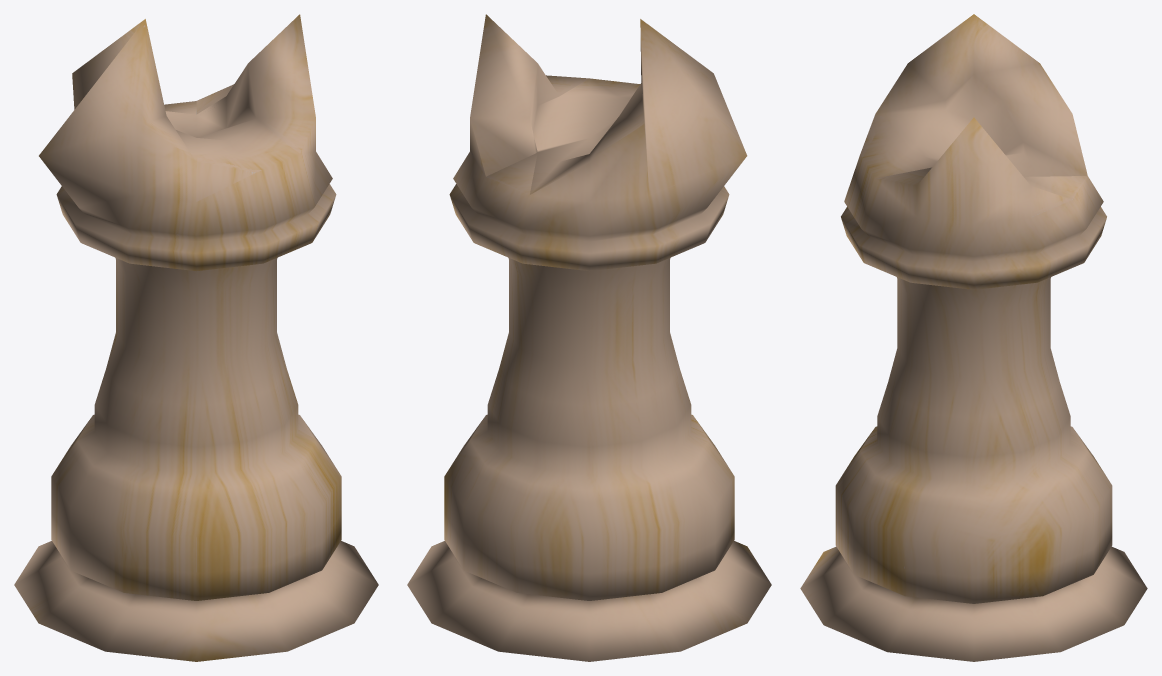
Rendered from White Bishop.fbx.
The picture shows the model from 3 angles, left to right: view 1: azimuth 30°, elevation 25°; view 2: azimuth 150°, elevation 25°; view 3: azimuth 270°, elevation 25°; orthographic projection. The views are drawn at different scales.
Visible parts, largest first — view 1: White_Bishop:Bishop_Piece:cylinder1; view 2: White_Bishop:Bishop_Piece:cylinder1; view 3: White_Bishop:Bishop_Piece:cylinder1.
Boxes of the visible parts, x1,y1,x2,y2 form: White_Bishop:Bishop_Piece:cylinder1: [14, 14, 378, 661]; White_Bishop:Bishop_Piece:cylinder1: [407, 14, 771, 661]; White_Bishop:Bishop_Piece:cylinder1: [800, 14, 1147, 661].
Bounding box in the file's own units: 3.05 × 5.34 × 3.05.
Materials: 1 (1 with a texture image).
